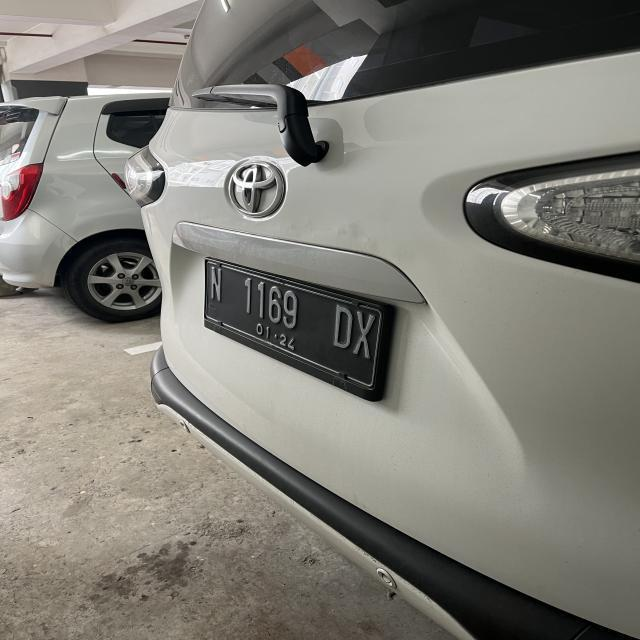1: (256, 280, 266, 322), (243, 276, 252, 316)
6: (268, 282, 282, 325)
9: (283, 288, 298, 330)
D: (334, 301, 354, 350)
N: (209, 266, 222, 302)
X: (356, 307, 374, 360)
